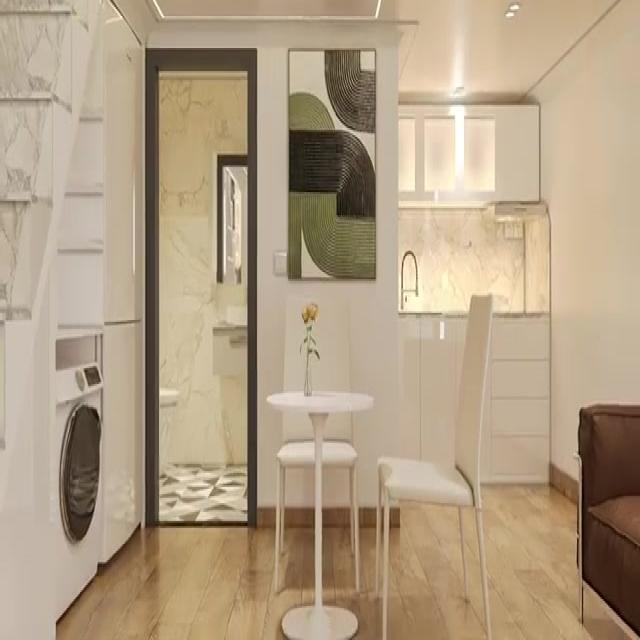obstacle: (374, 292, 494, 638), (265, 390, 374, 638), (573, 402, 639, 638)
